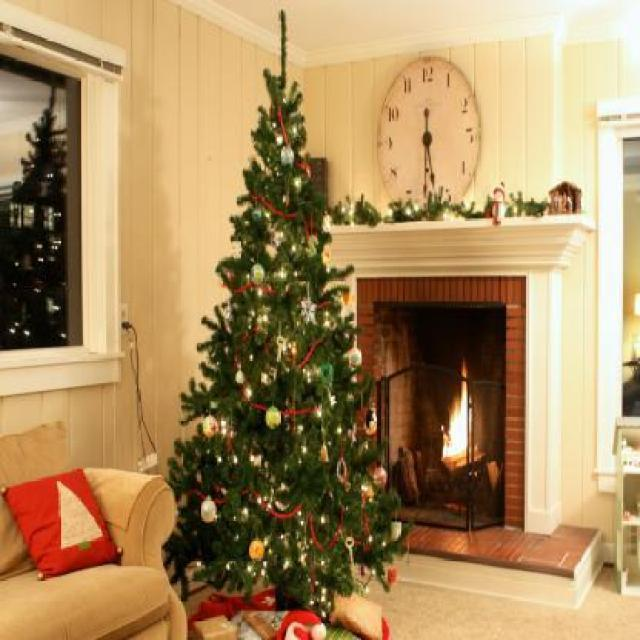Fire: (441, 378, 476, 467)
